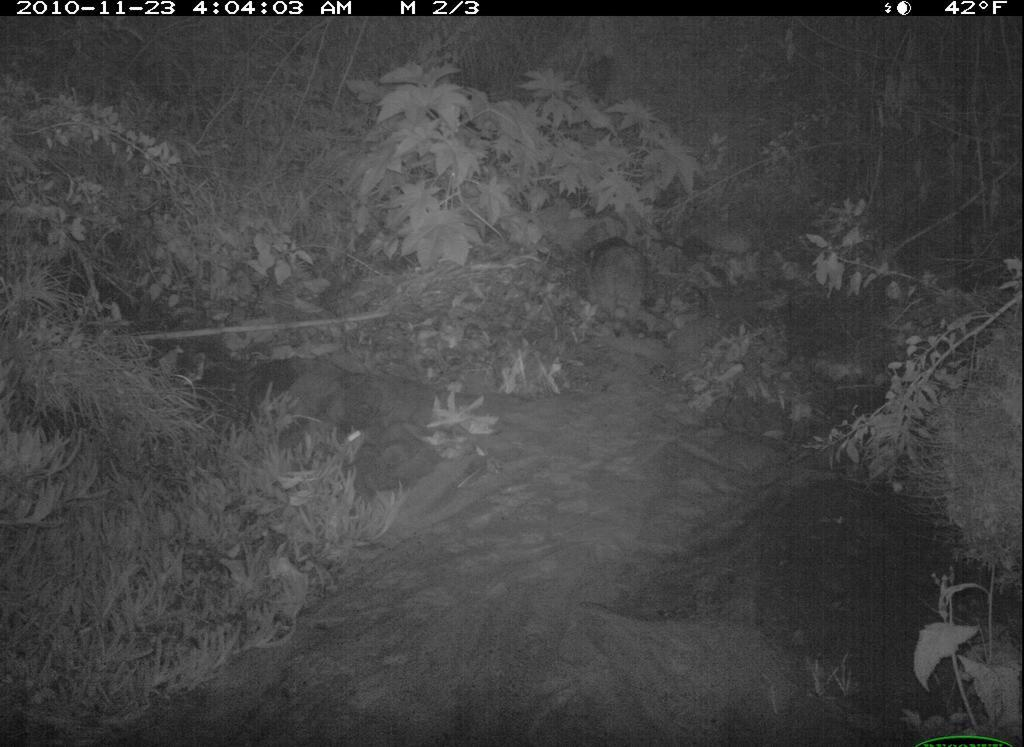raccoon: (573, 225, 665, 350)
